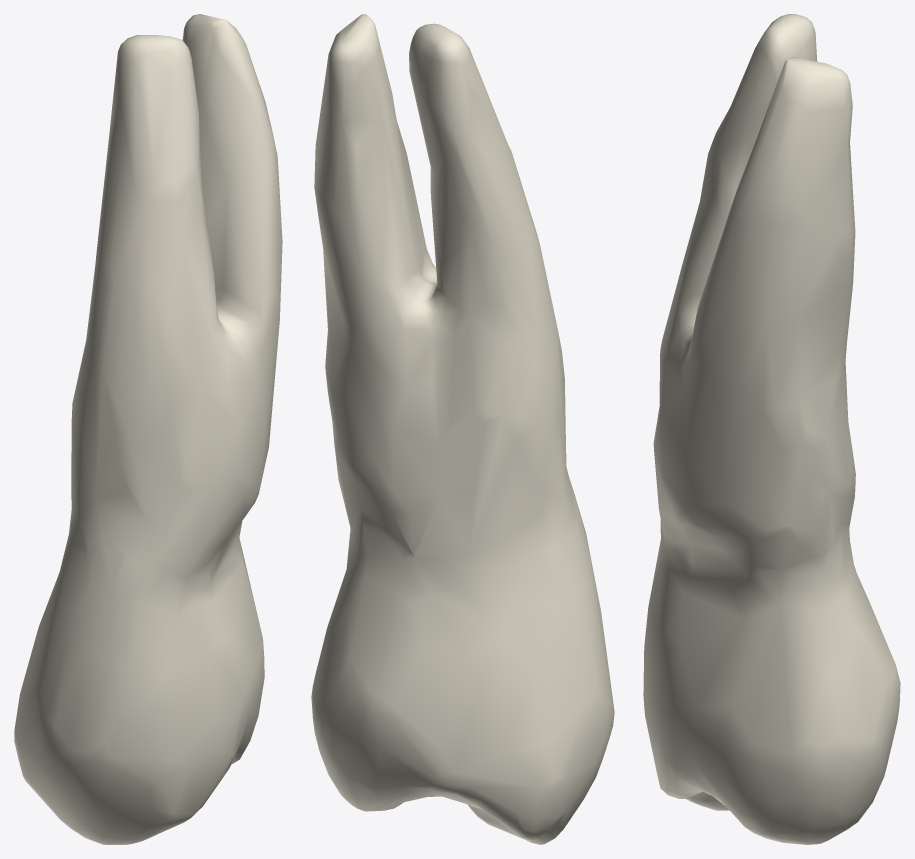
The picture shows the model from 3 angles, left to right: view 1: azimuth 30°, elevation 25°; view 2: azimuth 150°, elevation 25°; view 3: azimuth 270°, elevation 25°; orthographic projection. The views are drawn at different scales.
Visible parts, largest first — view 1: ZA_02313f6964fcd377; view 2: ZA_02313f6964fcd377; view 3: ZA_02313f6964fcd377.
Boxes of the visible parts, x1,y1,x2,y2 form: ZA_02313f6964fcd377: [14, 14, 282, 844]; ZA_02313f6964fcd377: [311, 14, 614, 844]; ZA_02313f6964fcd377: [643, 14, 900, 844].
Size of the model in its own units: 0.00931 by 0.0277 by 0.00786.
